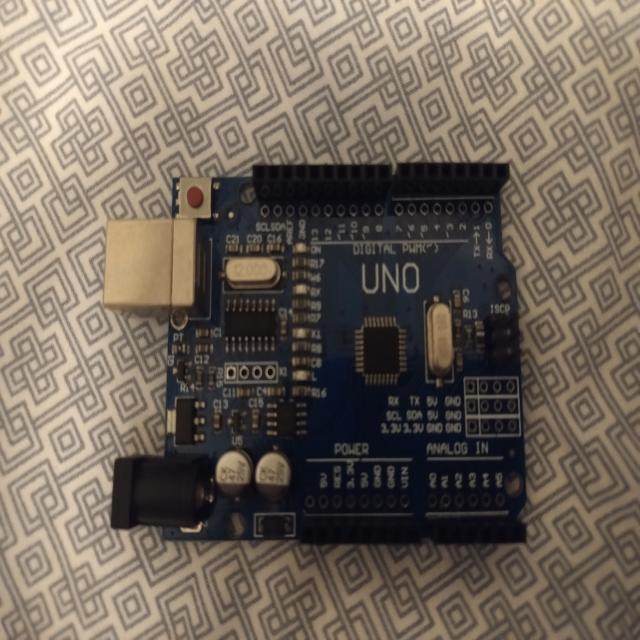arduino: (94, 151, 540, 563)
